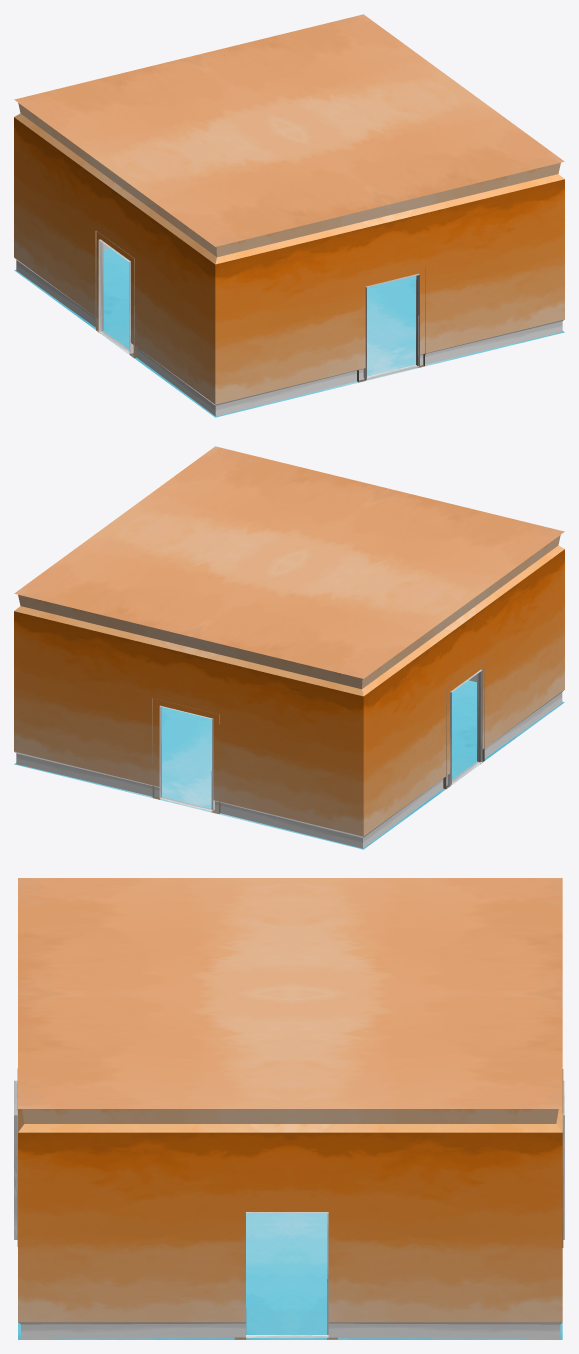
Rendered from Room_10x10_03.gltf.
3 renders of one model, top to bottom at view 1: azimuth 30°, elevation 25°; view 2: azimuth 150°, elevation 25°; view 3: azimuth 270°, elevation 25°, orthographic. The views are drawn at different scales.
Parts seen in each view (by area): view 1: Room_10x10_03; view 2: Room_10x10_03; view 3: Room_10x10_03.
Part boxes in pixels (left/top/right/bottom): Room_10x10_03: left=14, top=14, right=564, bottom=417; Room_10x10_03: left=14, top=446, right=564, bottom=849; Room_10x10_03: left=14, top=878, right=564, bottom=1339.
Size of what is drawn, in the model's own units: 10.03 by 4.63 by 10.01.
Materials: 1 (1 with a texture image).
